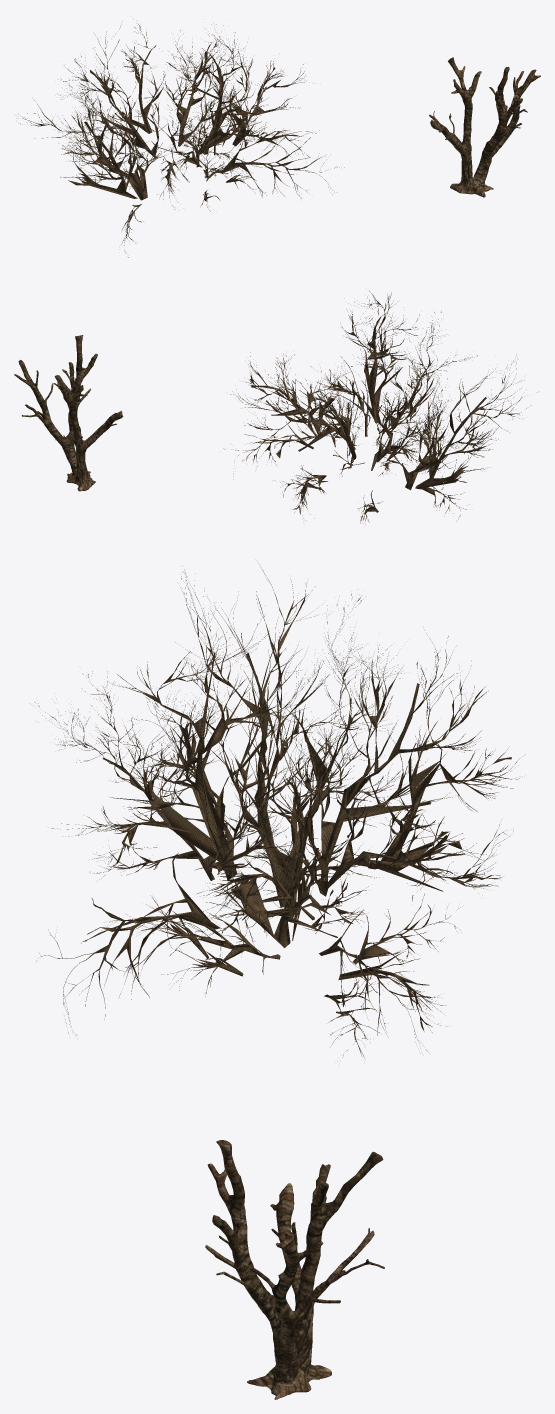
Rendered from field_broadleaf_b_lod0.glb.
The picture shows the model from 3 angles, top to bottom: view 1: azimuth 30°, elevation 25°; view 2: azimuth 150°, elevation 25°; view 3: azimuth 270°, elevation 25°; orthographic projection. The views are drawn at different scales.
Parts seen in each view (by area): view 1: bark_lod0; view 2: bark_lod0; view 3: bark_lod0.
Boxes of the visible parts, x1,y1,x2,y2 form: bark_lod0: [18, 23, 540, 257]; bark_lod0: [14, 291, 531, 523]; bark_lod0: [35, 563, 525, 1399].
Size of the model in its own units: 43.01 by 19.47 by 18.03.
Materials: 2 (2 with a texture image).
